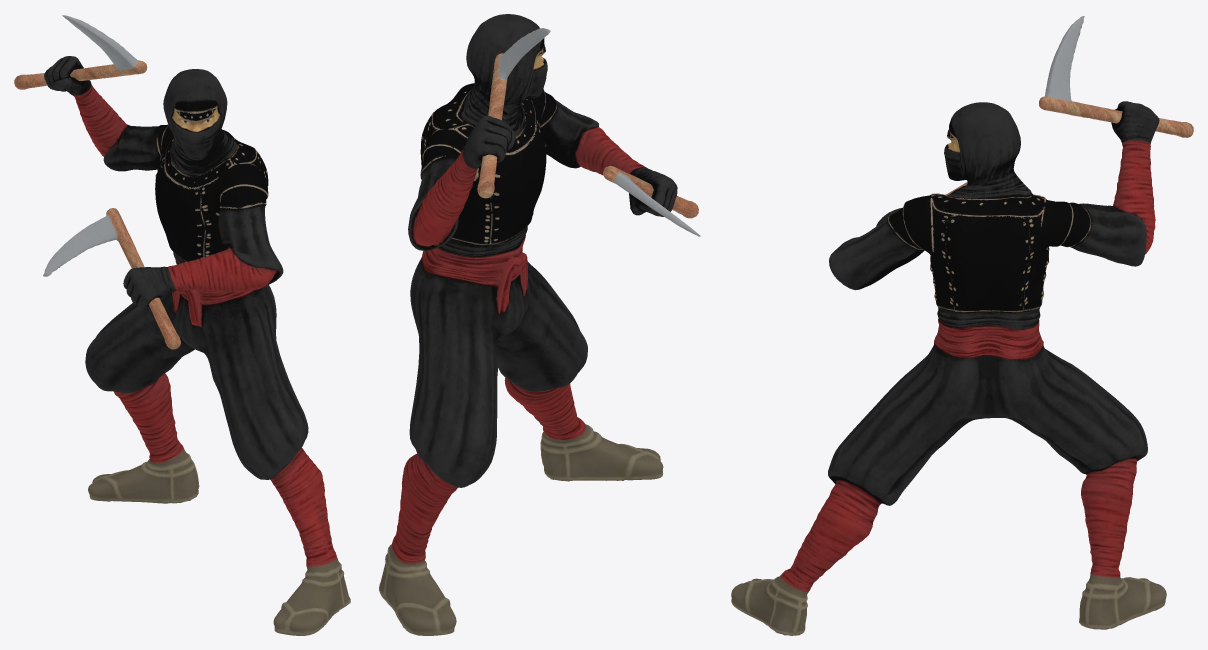
The model's file is MZ4250 - Ninja Melee 2.glb.
The picture shows the model from 3 angles, left to right: view 1: azimuth 30°, elevation 25°; view 2: azimuth 150°, elevation 25°; view 3: azimuth 270°, elevation 25°; orthographic projection. The views are drawn at different scales.
Parts seen in each view (by area): view 1: Body.001; view 2: Body.001; view 3: Body.001.
Boxes of the visible parts, x1=… form: Body.001: x1=14, y1=15, x2=350, y2=635; Body.001: x1=379, y1=14, x2=700, y2=635; Body.001: x1=731, y1=16, x2=1193, y2=635.
Bounding box in the file's own units: 1.67 × 3.62 × 2.76.
2 materials, 2 textured.
